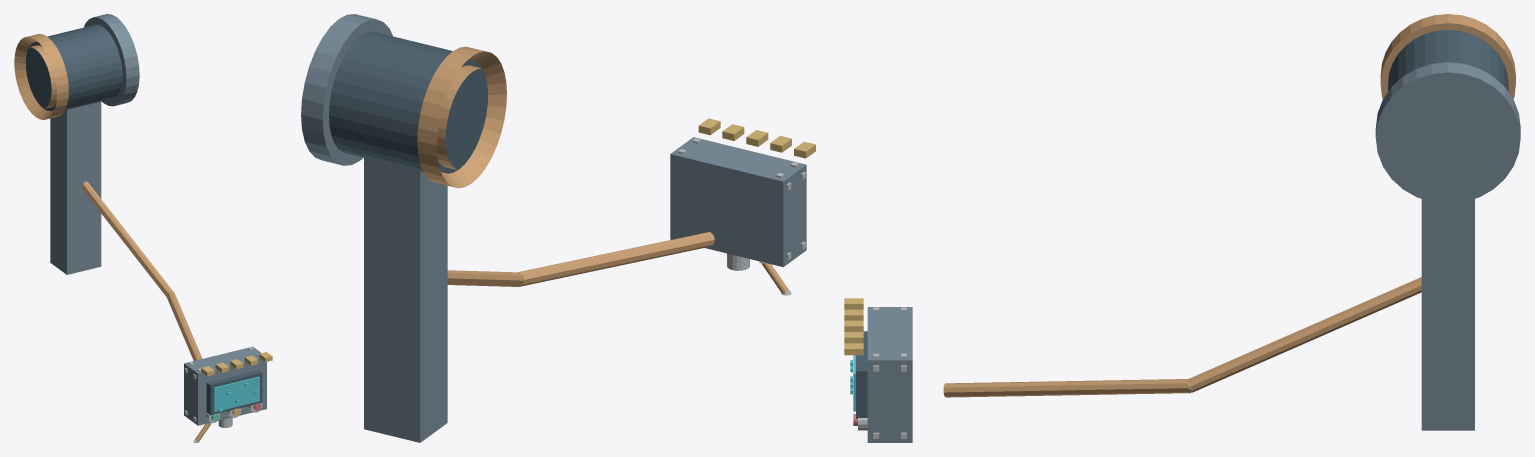
File: 18_L75_PrecisionFaradayCupDosimeter.glb
3 renders of one model, left to right at view 1: azimuth 30°, elevation 25°; view 2: azimuth 150°, elevation 25°; view 3: azimuth 270°, elevation 25°, orthographic. The views are drawn at different scales.
Visible parts, largest first — view 1: PrecisionFaradayCupDosimeter_Node_0015, PrecisionFaradayCupDosimeter_Node_0000, PrecisionFaradayCupDosimeter_Node_0016, PrecisionFaradayCupDosimeter_Node_0001, PrecisionFaradayCupDosimeter_Node_0002, PrecisionFaradayCupDosimeter_Node_0047, PrecisionFaradayCupDosimeter_Node_0026, PrecisionFaradayCupDosimeter_Node_0025, PrecisionFaradayCupDosimeter_Node_0048; view 2: PrecisionFaradayCupDosimeter_Node_0015, PrecisionFaradayCupDosimeter_Node_0000, PrecisionFaradayCupDosimeter_Node_0016, PrecisionFaradayCupDosimeter_Node_0001, PrecisionFaradayCupDosimeter_Node_0002, PrecisionFaradayCupDosimeter_Node_0048, PrecisionFaradayCupDosimeter_Node_0047; view 3: PrecisionFaradayCupDosimeter_Node_0002, PrecisionFaradayCupDosimeter_Node_0015, PrecisionFaradayCupDosimeter_Node_0016, PrecisionFaradayCupDosimeter_Node_0047, PrecisionFaradayCupDosimeter_Node_0000, PrecisionFaradayCupDosimeter_Node_0048, PrecisionFaradayCupDosimeter_Node_0001, PrecisionFaradayCupDosimeter_Node_0025.
Boxes of the visible parts, left/top/right/bottom form: PrecisionFaradayCupDosimeter_Node_0015: left=50, top=101, right=101, bottom=274; PrecisionFaradayCupDosimeter_Node_0000: left=25, top=24, right=122, bottom=111; PrecisionFaradayCupDosimeter_Node_0016: left=184, top=346, right=266, bottom=425; PrecisionFaradayCupDosimeter_Node_0001: left=14, top=34, right=68, bottom=119; PrecisionFaradayCupDosimeter_Node_0002: left=83, top=14, right=139, bottom=106; PrecisionFaradayCupDosimeter_Node_0047: left=81, top=181, right=173, bottom=296; PrecisionFaradayCupDosimeter_Node_0026: left=213, top=376, right=259, bottom=412; PrecisionFaradayCupDosimeter_Node_0025: left=206, top=370, right=262, bottom=415; PrecisionFaradayCupDosimeter_Node_0048: left=166, top=291, right=202, bottom=360; PrecisionFaradayCupDosimeter_Node_0015: left=364, top=157, right=447, bottom=442; PrecisionFaradayCupDosimeter_Node_0000: left=329, top=31, right=488, bottom=173; PrecisionFaradayCupDosimeter_Node_0016: left=670, top=137, right=806, bottom=267; PrecisionFaradayCupDosimeter_Node_0001: left=417, top=46, right=506, bottom=188; PrecisionFaradayCupDosimeter_Node_0002: left=301, top=14, right=392, bottom=165; PrecisionFaradayCupDosimeter_Node_0048: left=518, top=232, right=714, bottom=286; PrecisionFaradayCupDosimeter_Node_0047: left=447, top=270, right=524, bottom=286; PrecisionFaradayCupDosimeter_Node_0002: left=1375, top=62, right=1520, bottom=203; PrecisionFaradayCupDosimeter_Node_0015: left=1421, top=199, right=1474, bottom=430; PrecisionFaradayCupDosimeter_Node_0016: left=867, top=307, right=912, bottom=442; PrecisionFaradayCupDosimeter_Node_0047: left=1187, top=277, right=1421, bottom=392; PrecisionFaradayCupDosimeter_Node_0000: left=1388, top=29, right=1508, bottom=91; PrecisionFaradayCupDosimeter_Node_0048: left=943, top=379, right=1189, bottom=397; PrecisionFaradayCupDosimeter_Node_0001: left=1380, top=14, right=1515, bottom=98; PrecisionFaradayCupDosimeter_Node_0025: left=856, top=331, right=867, bottom=418.
Bounding box in the file's own units: 0.78 × 1.98 × 2.8.
